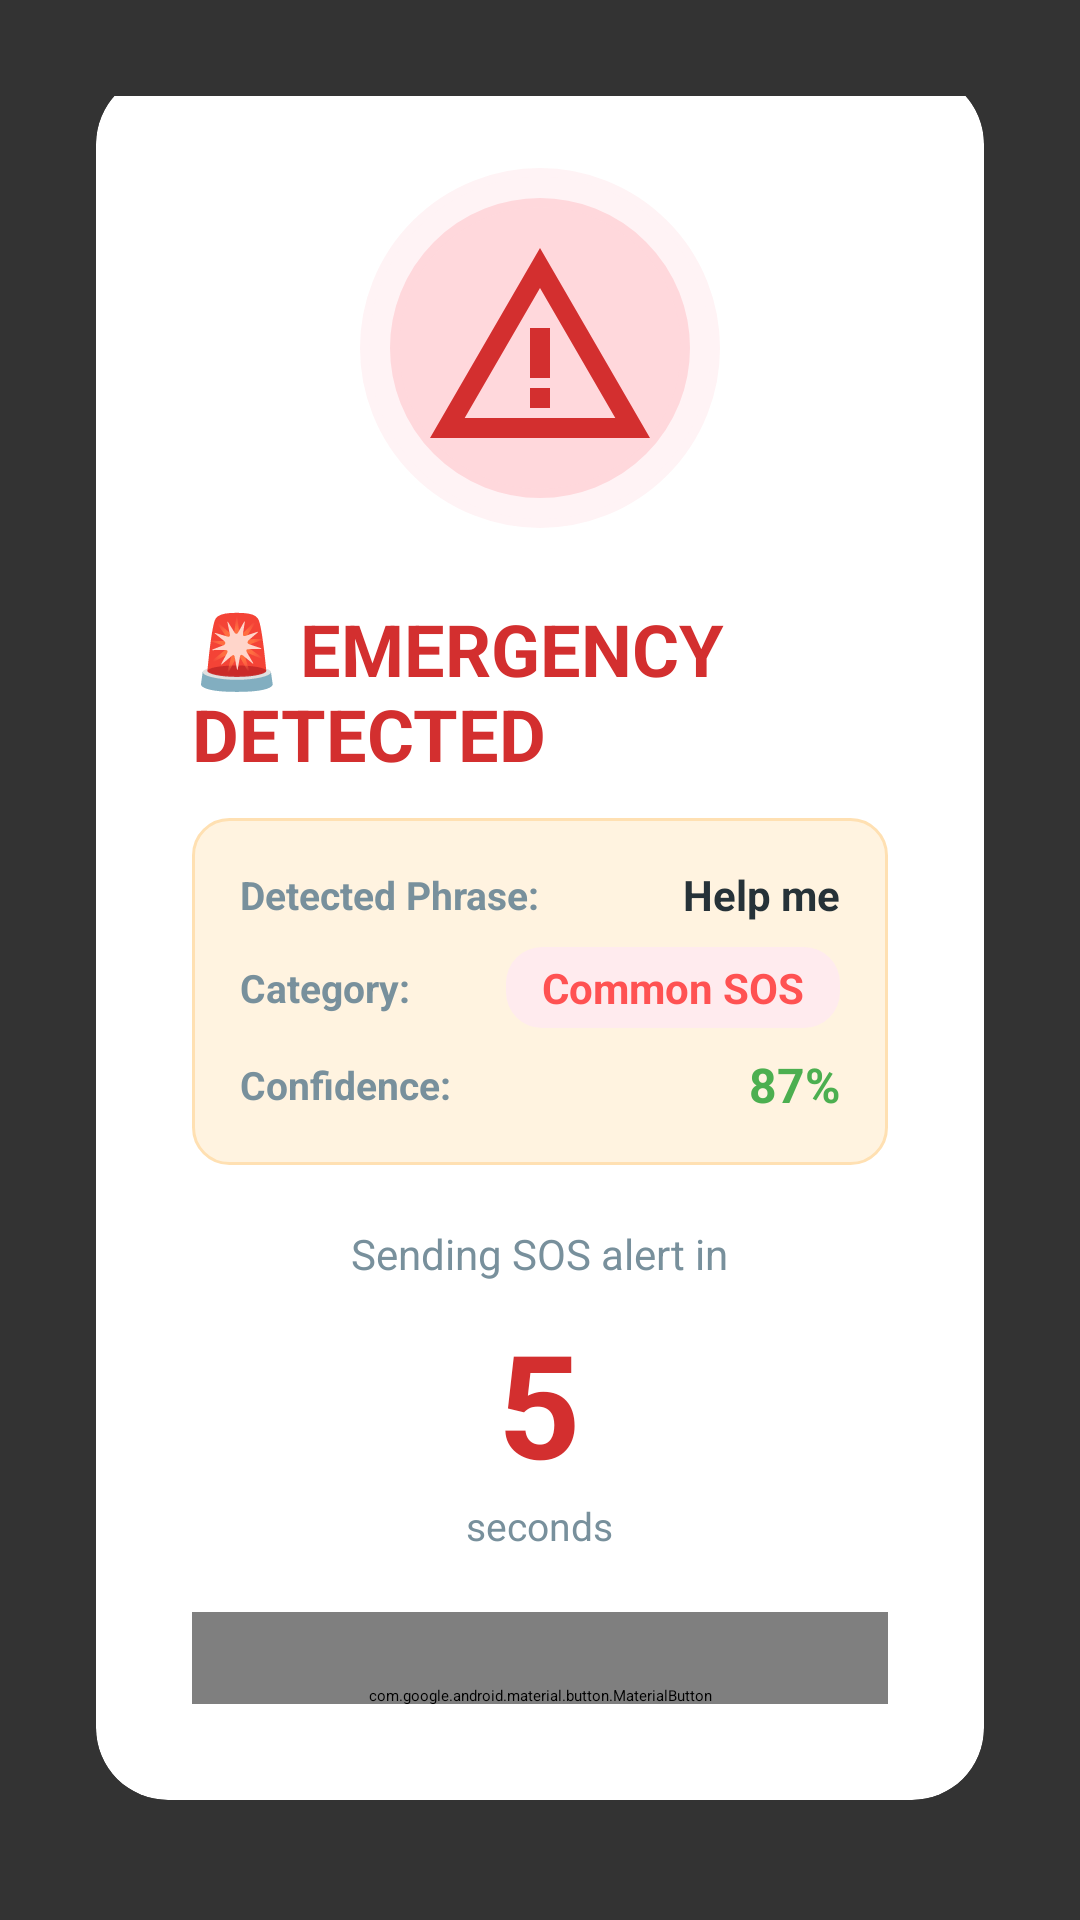

Point at icon controls on the screen. Image size 1080×1920, points as [x,y].
emergency alert: [540,343]
